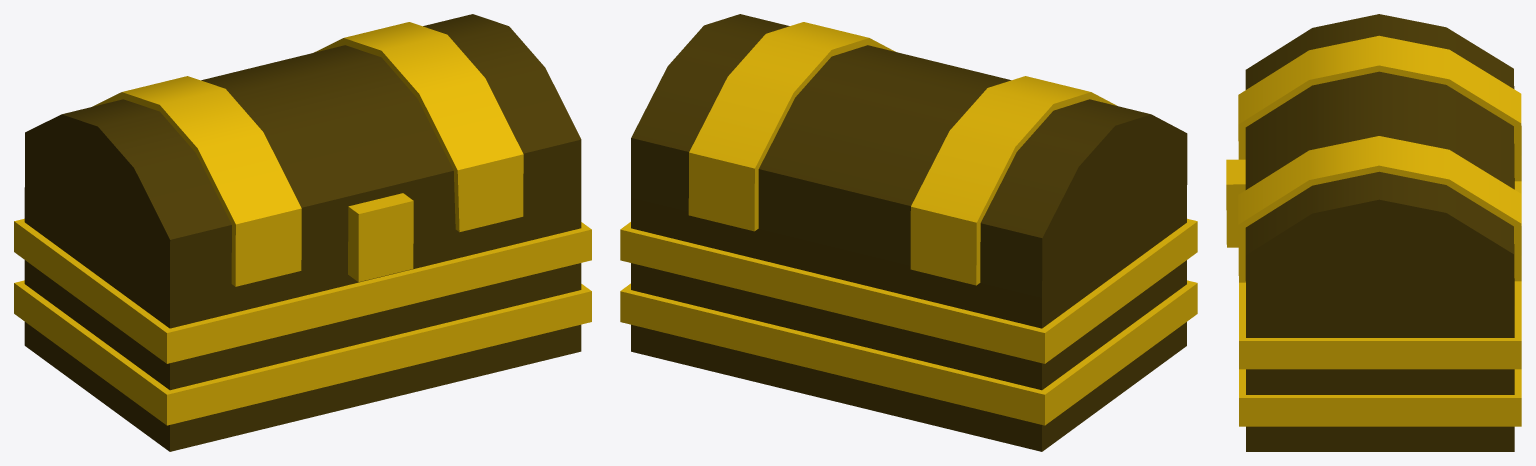
Rendered from sm_chest_1.fbx.
3 renders of one model, left to right at view 1: azimuth 30°, elevation 25°; view 2: azimuth 150°, elevation 25°; view 3: azimuth 270°, elevation 25°, orthographic. The views are drawn at different scales.
Visible parts, largest first — view 1: pCube5; view 2: pCube5; view 3: pCube5.
Boxes of the visible parts, left/top/right/bottom form: pCube5: left=14, top=14, right=591, bottom=451; pCube5: left=620, top=14, right=1197, bottom=451; pCube5: left=1226, top=14, right=1521, bottom=451.
Bounding box in the file's own units: 201 × 126 × 131.
